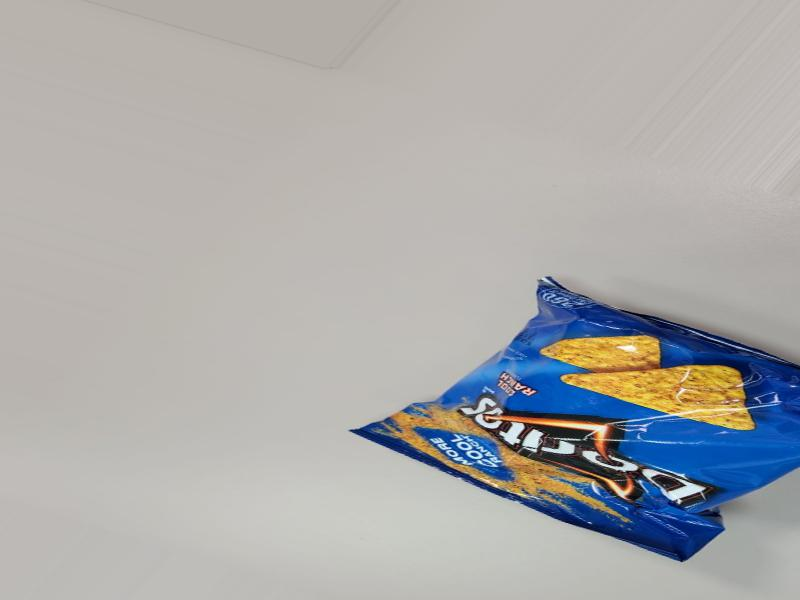doritos: (360, 295, 765, 552)
